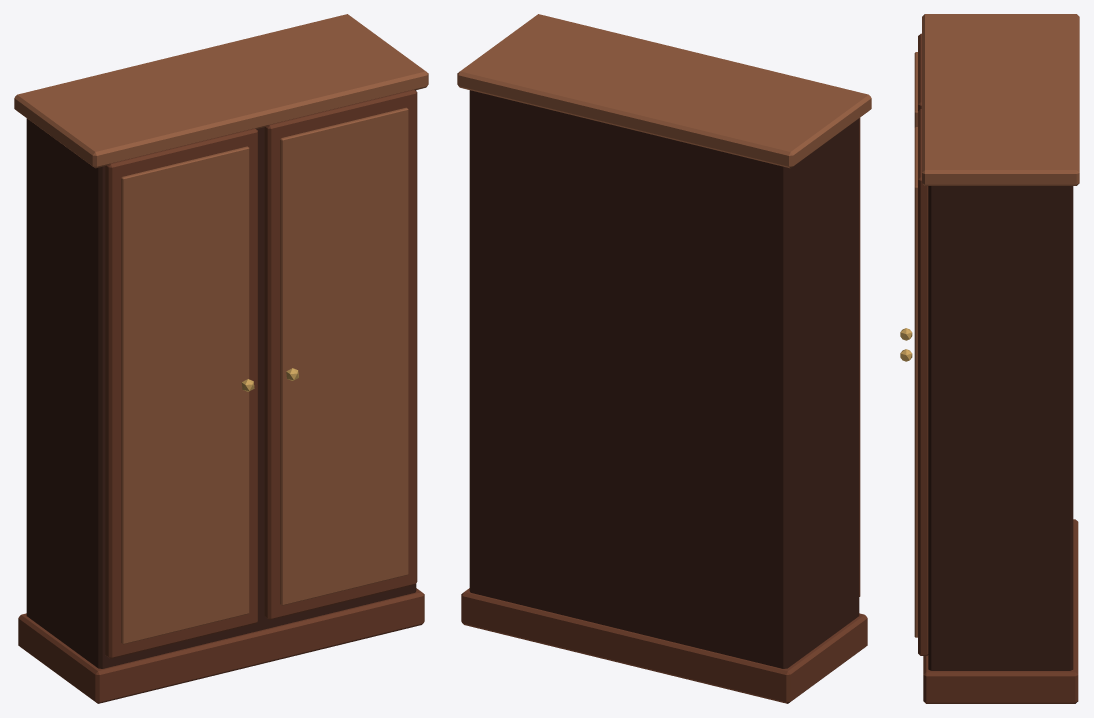
File: wardrobe.glb
3 renders of one model, left to right at view 1: azimuth 30°, elevation 25°; view 2: azimuth 150°, elevation 25°; view 3: azimuth 270°, elevation 25°, orthographic. The views are drawn at different scales.
Visible parts, largest first — view 1: Inset_00, Inset_01, Body, Top, Front_01, Front_00, Plinth; view 2: Body, Top, Plinth, Front_00; view 3: Body, Top, Plinth, Front_01, Inset_01, Front_00, Inset_00.
Part boxes in pixels (x1,y1,x2,y2): Inset_00: [121, 146, 249, 644]; Inset_01: [280, 107, 408, 605]; Body: [26, 90, 416, 668]; Top: [14, 14, 428, 168]; Front_01: [264, 89, 417, 619]; Front_00: [105, 128, 257, 658]; Plinth: [18, 588, 424, 703]; Body: [469, 90, 859, 668]; Top: [457, 14, 871, 168]; Plinth: [461, 588, 867, 703]; Front_00: [859, 118, 860, 596]; Body: [928, 186, 1073, 670]; Top: [922, 14, 1079, 185]; Plinth: [923, 519, 1078, 703]; Front_01: [918, 109, 928, 655]; Inset_01: [914, 127, 917, 637]; Front_00: [918, 33, 921, 110]; Inset_00: [914, 52, 917, 127].
Bounding box in the file's own units: 1.5 × 2.36 × 0.7168.
